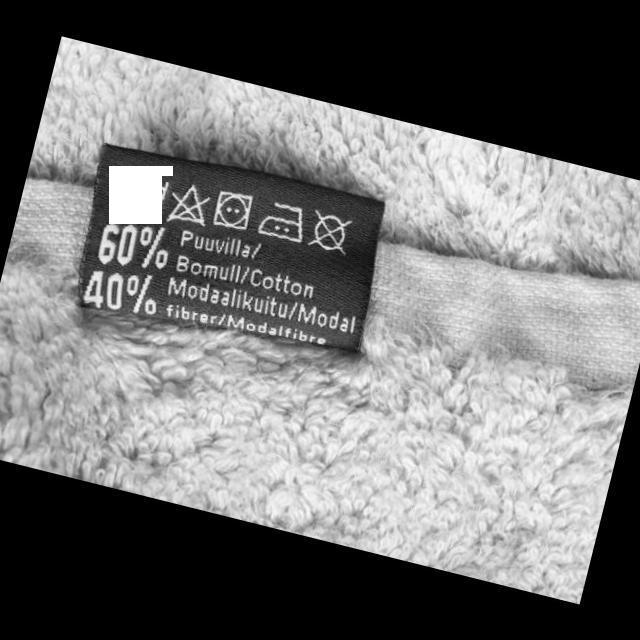DN_bleach: (162, 176, 218, 234)
DN_dry_clean: (300, 204, 356, 259)
iron_medium: (254, 195, 312, 247)
tumble_dry_medium: (209, 184, 257, 235)
